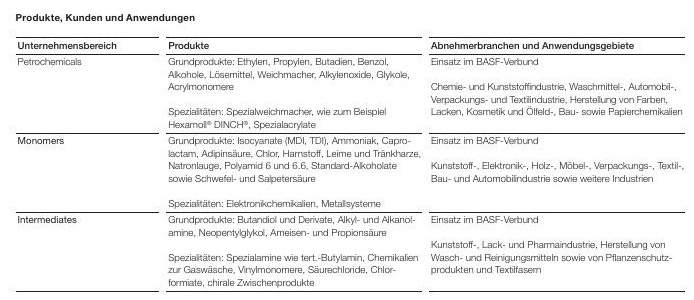table: (0, 0, 694, 300)
